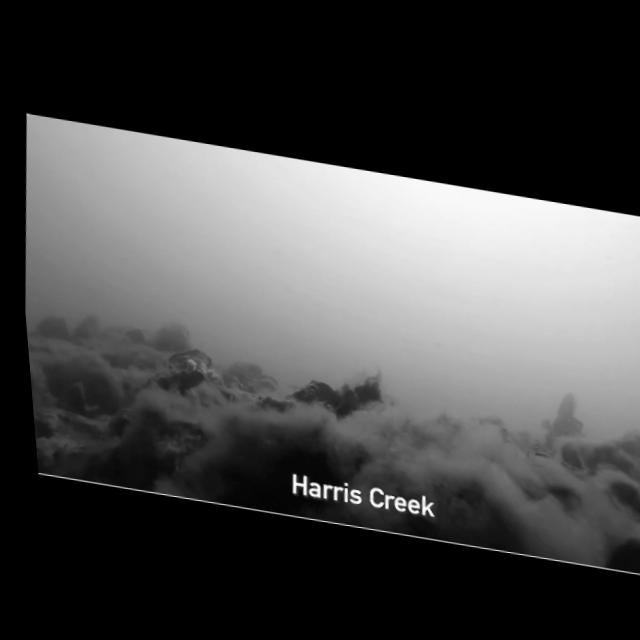Oyster-Closed: (221, 370, 246, 389)
Oyster-Indeterminate: (582, 442, 640, 494), (145, 427, 211, 470), (597, 525, 640, 580), (291, 376, 344, 414), (253, 392, 306, 423), (166, 343, 218, 373), (49, 407, 100, 436), (603, 476, 640, 514), (557, 441, 592, 478), (336, 382, 368, 419), (551, 390, 583, 427), (613, 423, 640, 464), (352, 379, 383, 406), (214, 385, 246, 408), (250, 370, 285, 391), (106, 403, 134, 429), (256, 381, 280, 395)
Oyster-Open: (143, 359, 214, 403)
